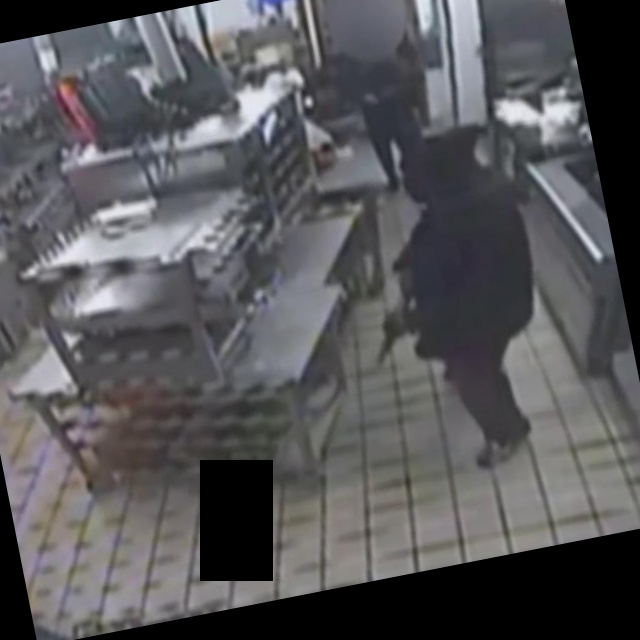gun: (356, 279, 425, 367)
